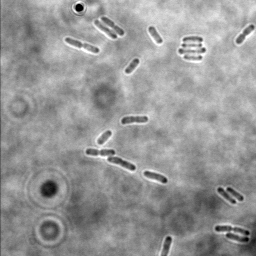Dividing: (63, 36, 100, 54), (100, 15, 126, 37), (92, 19, 118, 40), (106, 155, 137, 172), (234, 23, 255, 46), (214, 223, 251, 236), (119, 114, 149, 125), (84, 147, 116, 157)
Microcolony: (177, 35, 206, 63)
Rod: (142, 169, 168, 185), (215, 186, 236, 205), (226, 185, 245, 202), (158, 235, 173, 256), (123, 57, 140, 75), (147, 26, 163, 45), (95, 129, 113, 145)
